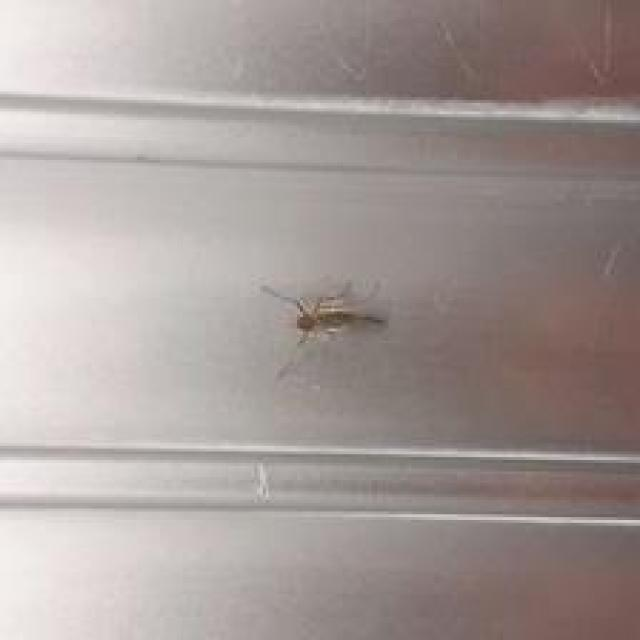Culex: (260, 280, 386, 346)
